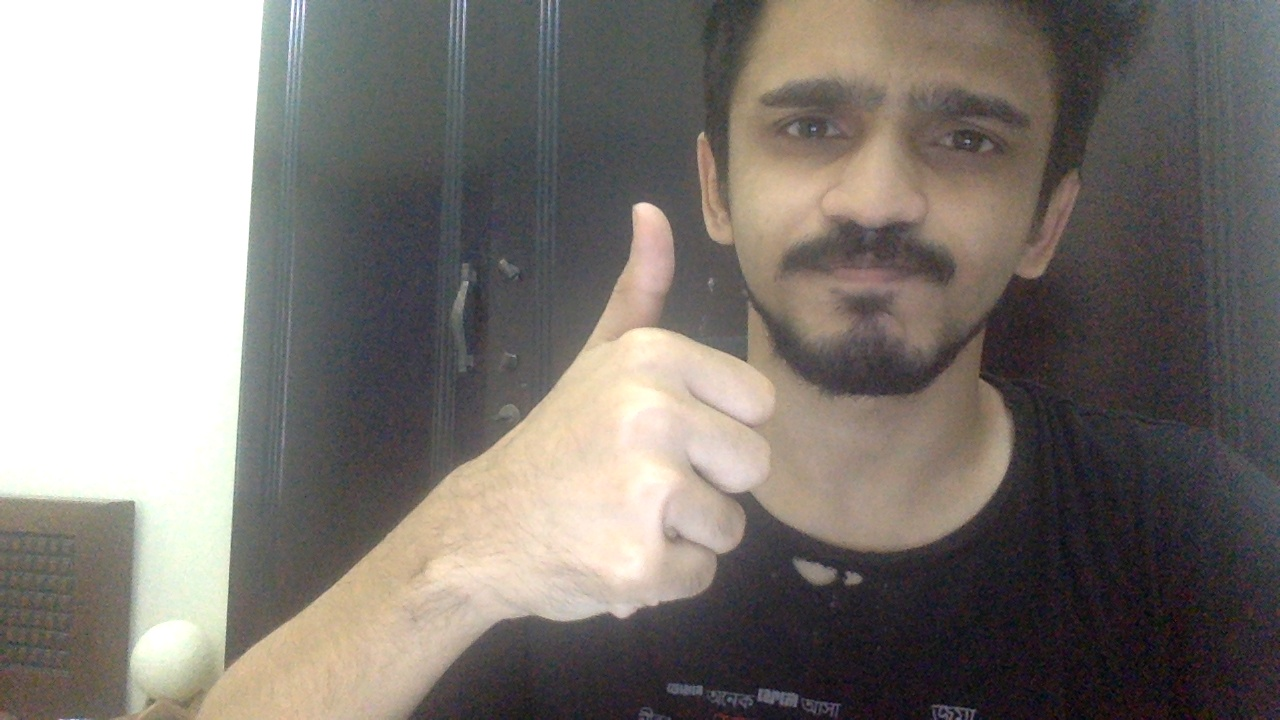good: (483, 199, 781, 645)
